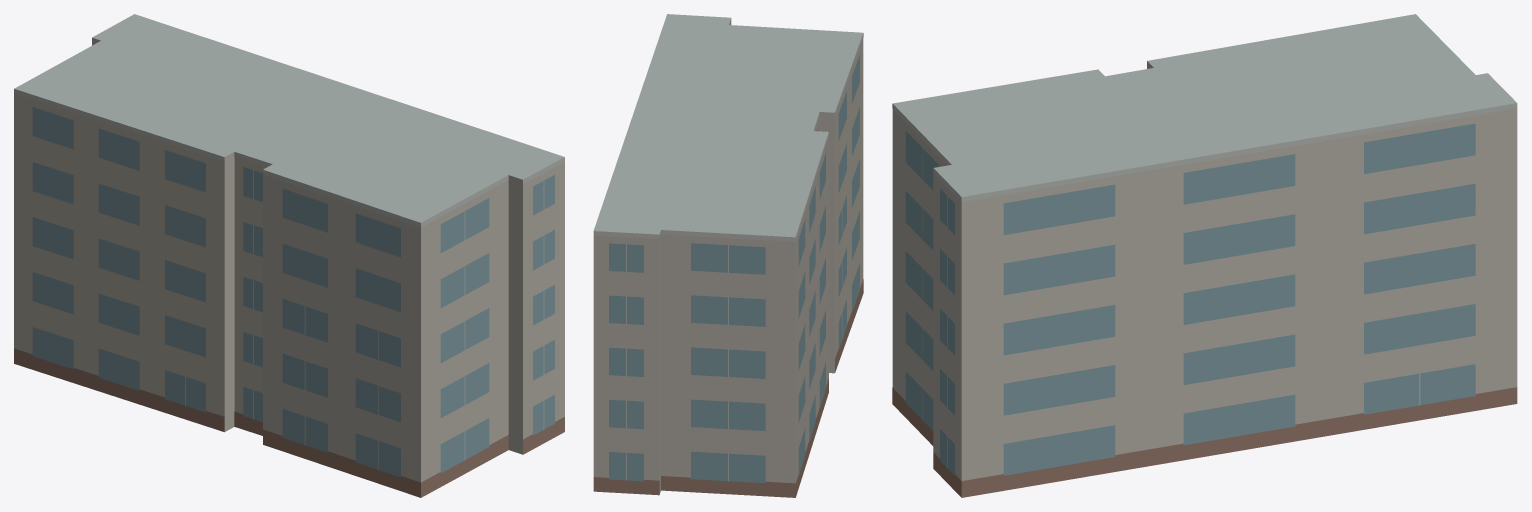
File: survey-upis-33023322.glb
3 renders of one model, left to right at view 1: azimuth 30°, elevation 25°; view 2: azimuth 150°, elevation 25°; view 3: azimuth 270°, elevation 25°, orthographic. The views are drawn at different scales.
Visible parts, largest first — view 1: survey-upis-33023322.tmp; view 2: survey-upis-33023322.tmp; view 3: survey-upis-33023322.tmp.
Part boxes in pixels (x1,y1,x2,y2): survey-upis-33023322.tmp: (14,14,564,497); survey-upis-33023322.tmp: (593,14,863,497); survey-upis-33023322.tmp: (892,14,1517,497).
Size of the model in its own units: 18.29 by 14 by 26.37.
